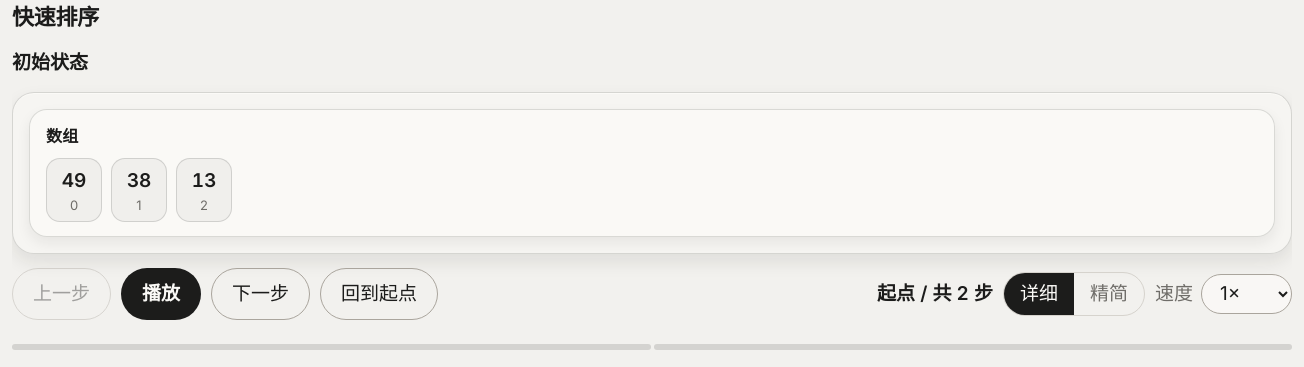
Test: animation player › walks the trace with the step buttons and stops at the ends
The width and height of the screenshot is (1304, 367).
Click the button "下一步". click: [260, 294]
box: [211,268,310,320]
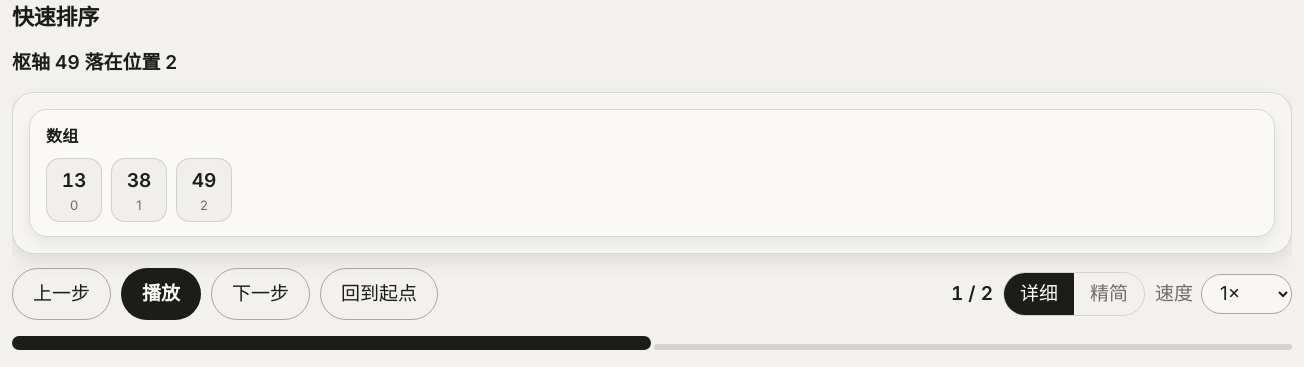
Expected: the text "枢轴 49 落在位置 2" is shown, [12,51,177,74]
Expected: the text "1 / 2" is shown, [951,279,993,309]
Click the button "下一步". click: [260, 294]
box: [211,268,310,320]
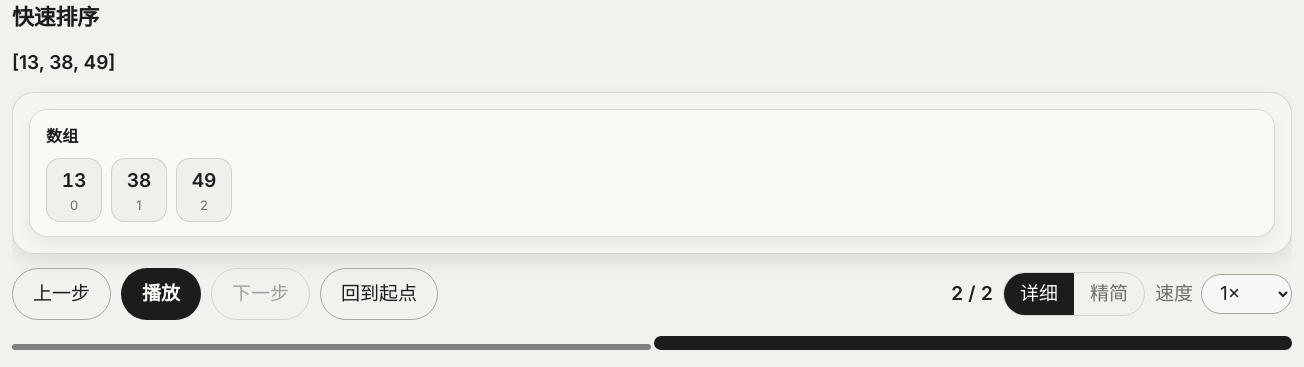
Expected: the text "2 / 2" is shown, [951,279,993,309]
Expected: the button "下一步" is disabled, [211,268,310,320]
Click the button "上一步". click: [62, 294]
box: [12,268,111,320]
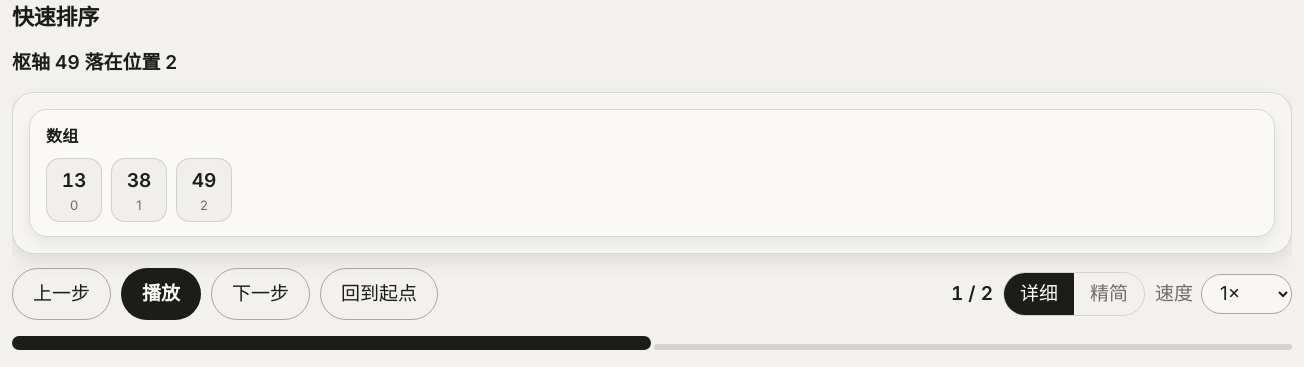
Expected: the text "1 / 2" is shown, [951,279,993,309]
Click the button "回到起点". click: [379, 294]
box: [320,268,438,320]
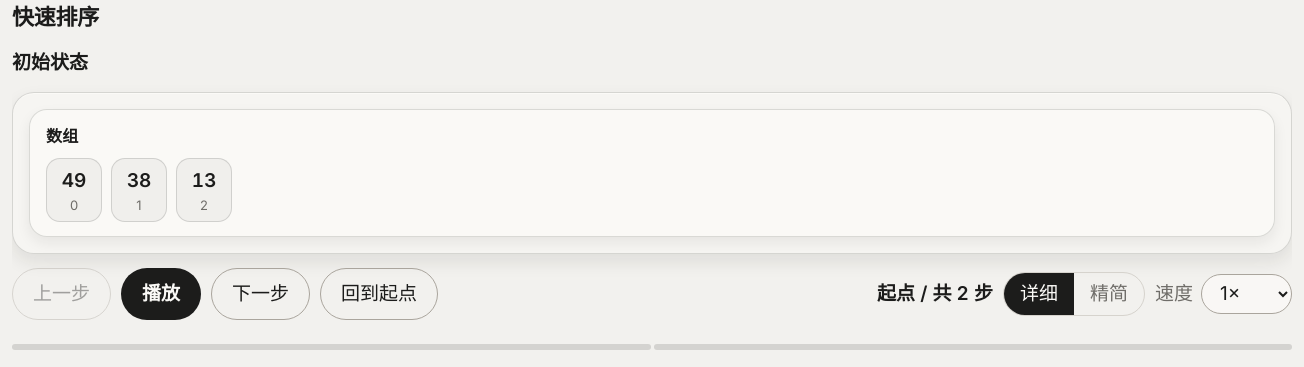
Expected: the text "起点 / 共 2 步" is shown, [877,279,993,309]
